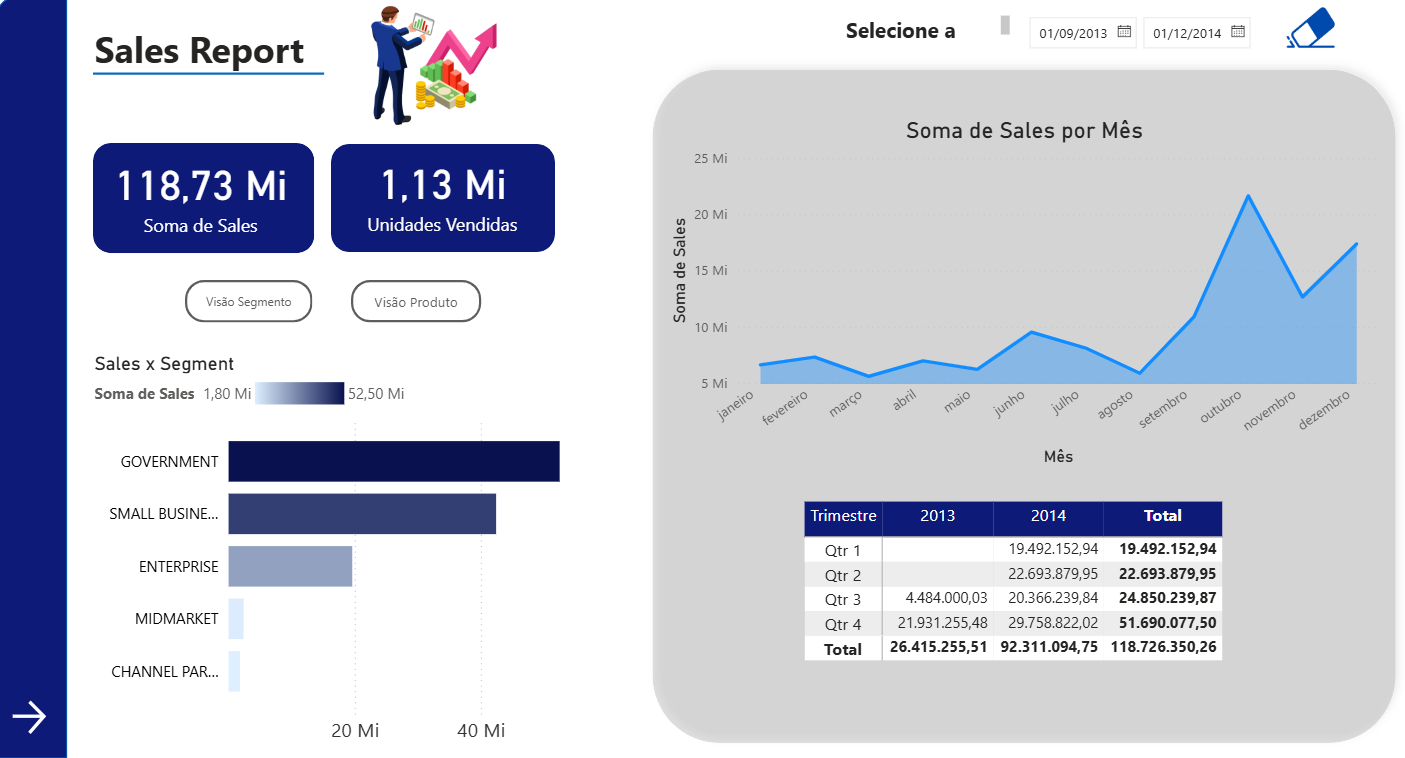

The page's visual inventory and layout, read from the dashboard file:
{"tool":"powerbi","page":{"name":"Página 1","canvas":[1280,720],"ordinal":0},"visuals":[{"type":"slicer","fields":{"Values":["financials.Date"]},"box":[928.4,19.4,225,46],"z":0,"group":"g1"},{"type":"shape","box":[102.5,142.8,198.3,98.7],"z":0},{"type":"shape","box":[16,12,63,682],"z":1000},{"type":"image","title":"clean","box":[1165.4,12.4,54,53],"z":1000,"group":"g1"},{"type":"textbox","box":[98.7,30.7,235.7,77.6],"z":1000,"group":"g2"},{"type":"clusteredBarChart","title":"Sales x Segment","fields":{"Y":["Sum(financials.Sales)"],"Category":["financials.Segment"]},"box":[98.7,330.2,448.5,360.6],"z":1000,"group":"g3"},{"type":"textbox","box":[771.4,23.4,157,38],"z":2000,"group":"g1"},{"type":"actionButton","box":[1158.2,13.2,71.9,48.9],"z":3000,"group":"g1"},{"type":"shape","box":[102.5,30.7,206.9,99.6],"z":3000},{"type":"actionButton","title":"B-produto","box":[333.6,265.6,116.6,37.9],"z":3000,"group":"g3"},{"type":"actionButton","title":"B-segmento","box":[185,265.4,114.1,38],"z":3500,"group":"g3"},{"type":"shape","box":[315.5,143.1,200.6,96.7],"z":4000},{"type":"card","fields":{"Values":["Sum(financials.Units Sold)"]},"box":[322.7,142.9,184.9,86.2],"z":5000},{"type":"shape","box":[592.1,65.1,687.9,625.6],"z":7500},{"type":"areaChart","fields":{"Category":["financials.Date.Variation.Hierarquia de datas.Mês"],"Y":["Sum(financials.Sales)"]},"box":[614.1,118.8,643.8,317.1],"z":8000},{"type":"image","box":[321.9,13.4,203.1,118.8],"z":9000},{"type":"group","id":"g1","title":"Filtro por data","box":[771.4,12.4,458.2,52.2],"z":10000},{"type":"group","id":"g2","title":"Title Report","box":[98.7,30.7,235.7,77.6],"z":11000},{"type":"actionButton","box":[24,637,48,40],"z":12000},{"type":"card","fields":{"Values":["Sum(financials.Sales)"]},"box":[107.8,143.8,182,86.2],"z":13000},{"type":"group","id":"g3","title":"Grupo 1","box":[98.7,265.4,448.4,425.4],"z":14000},{"type":"pivotTable","fields":{"Values":["Sum(financials.Sales)"],"Rows":["financials.Date.Variation.Hierarquia de datas.Trimestre"],"Columns":["financials.Date.Variation.Hierarquia de datas.Ano"]},"box":[733.9,458.9,388,160],"z":15000}]}

Visuals, with their boxes on the page's 1280x720 design canvas (x1, y1, x2, y2). These are canvas units, not pixel positions in the 1405x758 screenshot, which may show the page scaled, cropped or inside an application window:
slicer - financials.Date: 928/19/1153/65
shape: 102/143/301/242
shape: 16/12/79/694
"clean" image: 1165/12/1219/65
textbox: 99/31/334/108
"Sales x Segment" clusteredBarChart: 99/330/547/691
textbox: 771/23/928/61
actionButton: 1158/13/1230/62
shape: 102/31/309/130
"B-produto" actionButton: 334/266/450/304
"B-segmento" actionButton: 185/265/299/303
shape: 316/143/516/240
card - Sum(financials.Units Sold): 323/143/508/229
shape: 592/65/1280/691
areaChart - financials.Date.Variation.Hierarquia de datas.Mês x Sum(financials.Sales): 614/119/1258/436
image: 322/13/525/132
"Filtro por data" group: 771/12/1230/65
"Title Report" group: 99/31/334/108
actionButton: 24/637/72/677
card - Sum(financials.Sales): 108/144/290/230
"Grupo 1" group: 99/265/547/691
pivotTable - Sum(financials.Sales) x financials.Date.Variation.Hierarquia de datas.Trimestre: 734/459/1122/619
